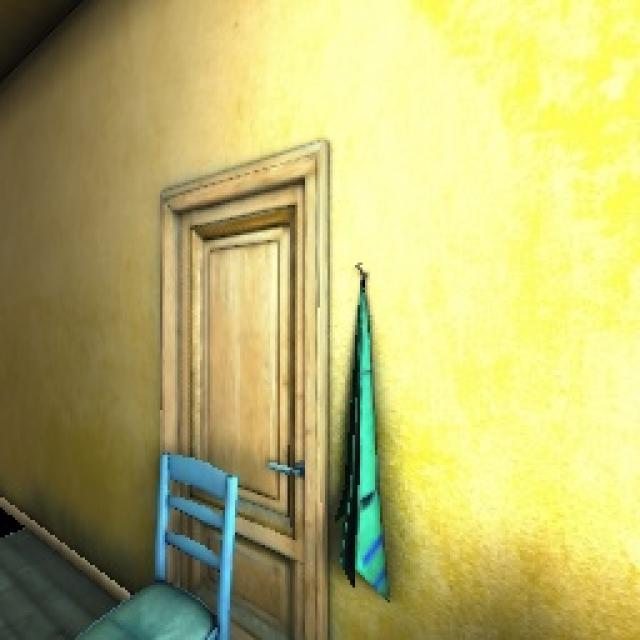chair: (56, 445, 254, 640)
door: (142, 133, 358, 639)
